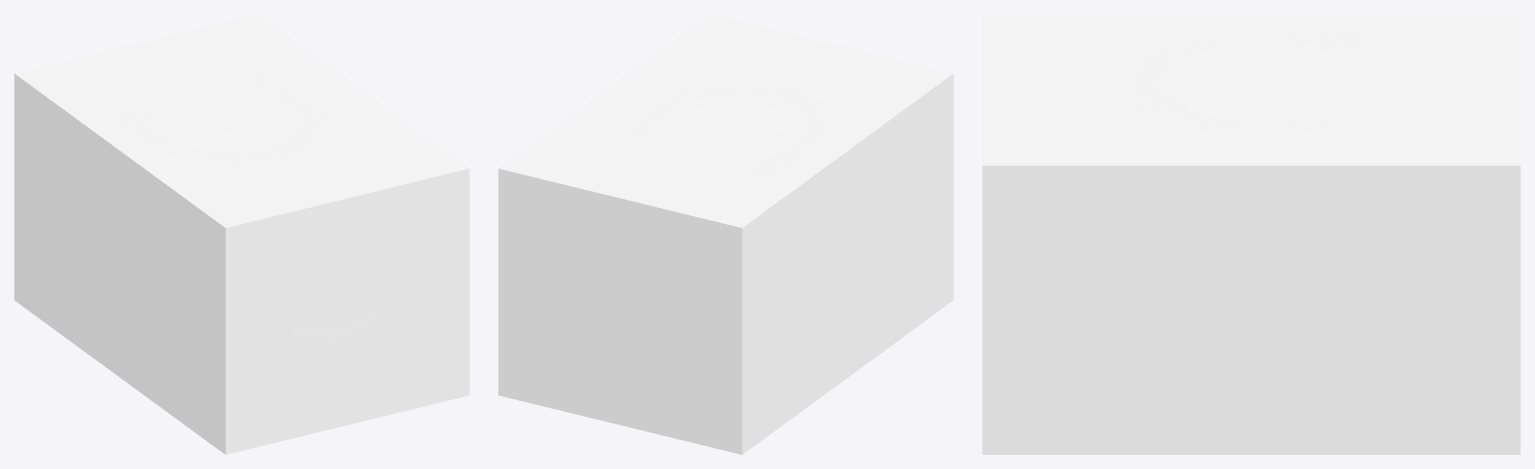
File: Building_LargeMechGestator.glb
3 views of the same model, side by side, from view 1: azimuth 30°, elevation 25°; view 2: azimuth 150°, elevation 25°; view 3: azimuth 270°, elevation 25° (orthographic). The views are drawn at different scales.
Parts seen in each view (by area): view 1: LargeMechGestator; view 2: LargeMechGestator; view 3: LargeMechGestator.
Boxes of the visible parts, x1,y1,x2,y2 form: LargeMechGestator: [14, 14, 469, 454]; LargeMechGestator: [498, 14, 953, 454]; LargeMechGestator: [982, 14, 1520, 454].
Bounding box in the file's own units: 1.8 × 1.6 × 2.7.
Materials: 1 (1 with a texture image).
